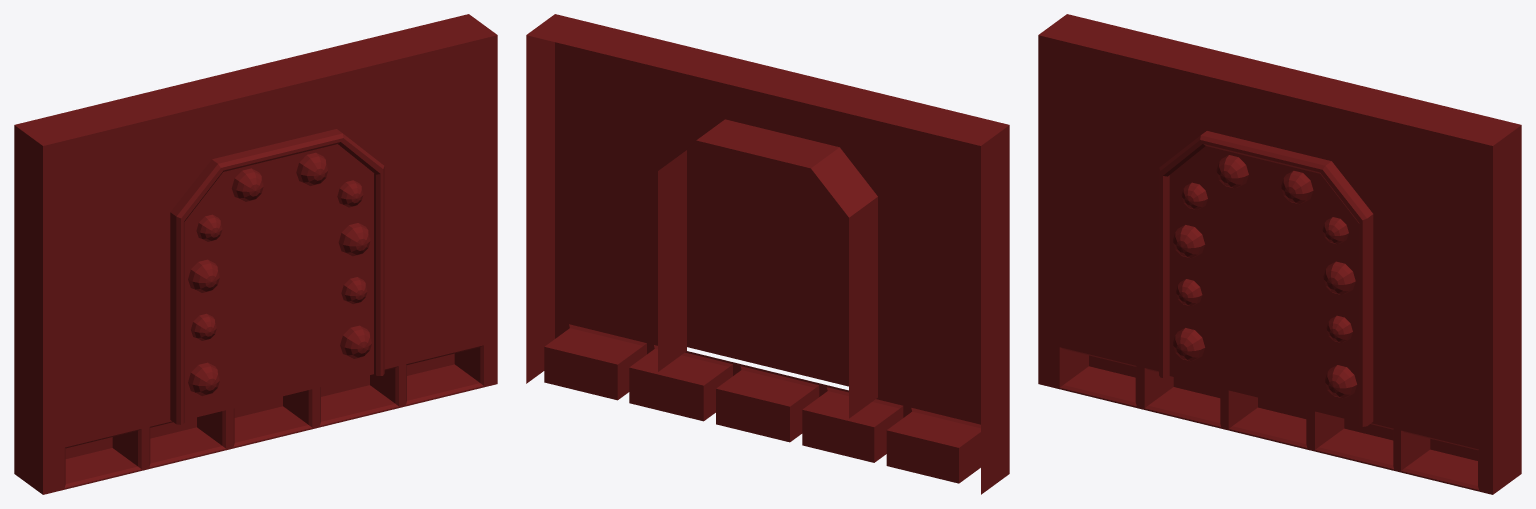
The model's file is Level 2 Door Bomb slots.fbx.
The picture shows the model from 3 angles, left to right: view 1: azimuth 30°, elevation 25°; view 2: azimuth 150°, elevation 25°; view 3: azimuth 330°, elevation 25°; orthographic projection.
Visible parts, largest first — view 1: pCube5, polySurface10, polySurface9, pCube6, polySurface12, polySurface11; view 2: polySurface10, polySurface9, pCube5, pCube6, polySurface11, polySurface12; view 3: pCube5, polySurface9, polySurface10, pCube6, polySurface11, polySurface12.
Part boxes in pixels (x1,y1,x2,y2): pCube5: (170,129,384,424); polySurface10: (14,69,270,347); polySurface9: (242,14,497,264); pCube6: (14,340,497,494); polySurface12: (14,317,170,450); polySurface11: (384,237,497,367); polySurface10: (754,69,1009,347); polySurface9: (526,14,782,268); pCube5: (687,141,848,386); pCube6: (526,319,1009,494); polySurface11: (526,216,686,371); polySurface12: (849,294,1009,450); pCube5: (1159,131,1373,426); polySurface9: (1265,69,1521,347); polySurface10: (1038,14,1293,266); pCube6: (1038,340,1521,494); polySurface11: (1373,319,1521,450); polySurface12: (1038,237,1158,369).
Size of the model in its own units: 593 by 435 by 94.14.
